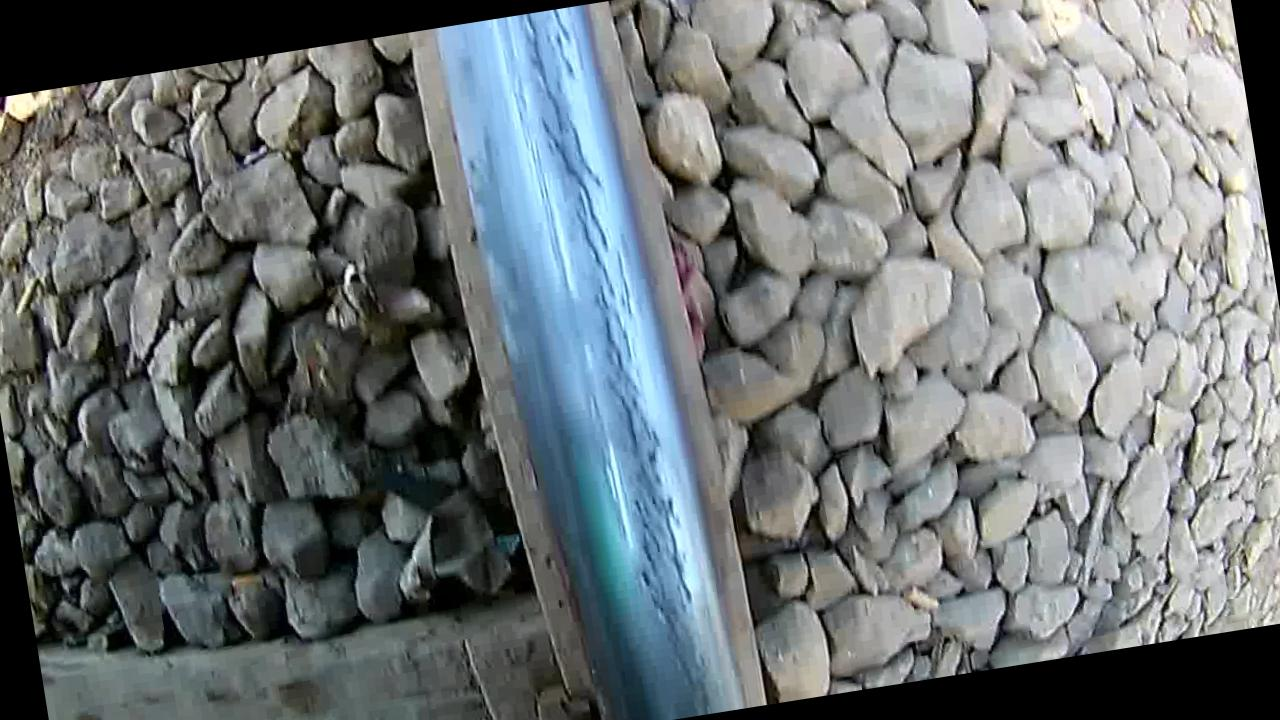normal_track: (511, 1, 719, 720)
